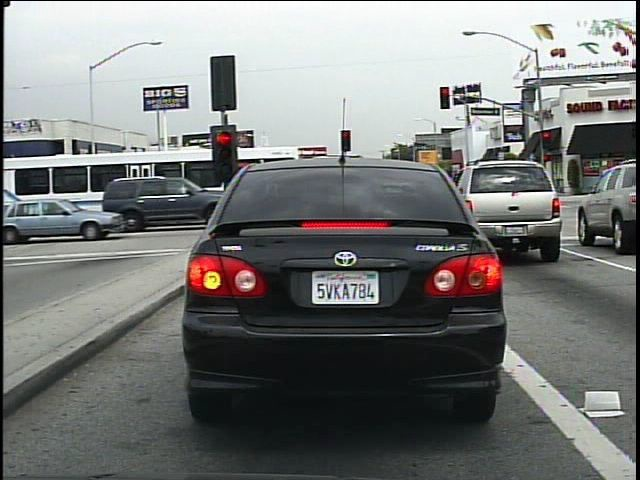person: (81, 183, 104, 218)
